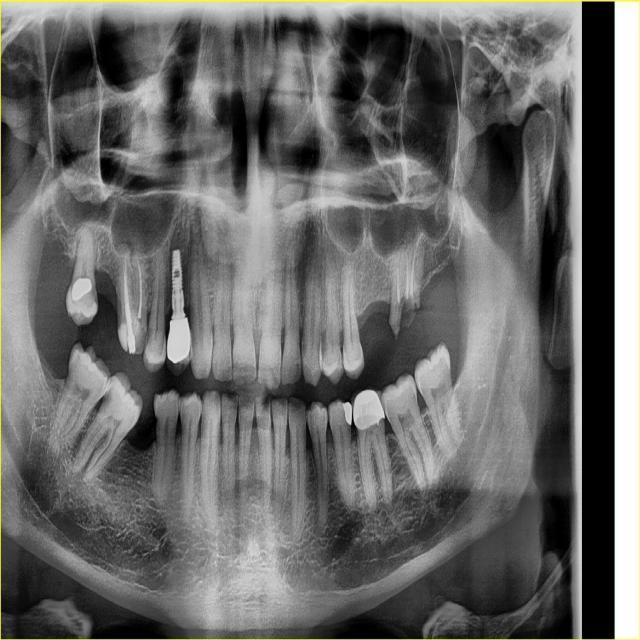Caries: (98, 384, 113, 414), (135, 333, 147, 354), (145, 326, 154, 352), (91, 278, 98, 306), (156, 414, 161, 432)
Crown: (166, 318, 193, 376), (352, 388, 385, 432)
Filling: (125, 304, 135, 354), (72, 277, 92, 301), (342, 402, 352, 425)
Implant: (171, 249, 186, 319)
Missing teeth: (355, 296, 396, 363), (123, 393, 155, 455), (92, 268, 121, 335)
Root Canal Treatment: (136, 255, 142, 318), (125, 253, 130, 305)
Root Piece: (390, 231, 411, 336), (408, 230, 430, 314), (399, 230, 417, 329)
